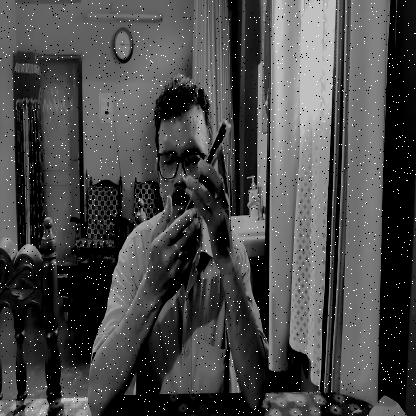Normal: (152, 74, 218, 249)
